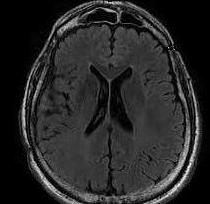Normal_Brain: (15, 1, 207, 204)
